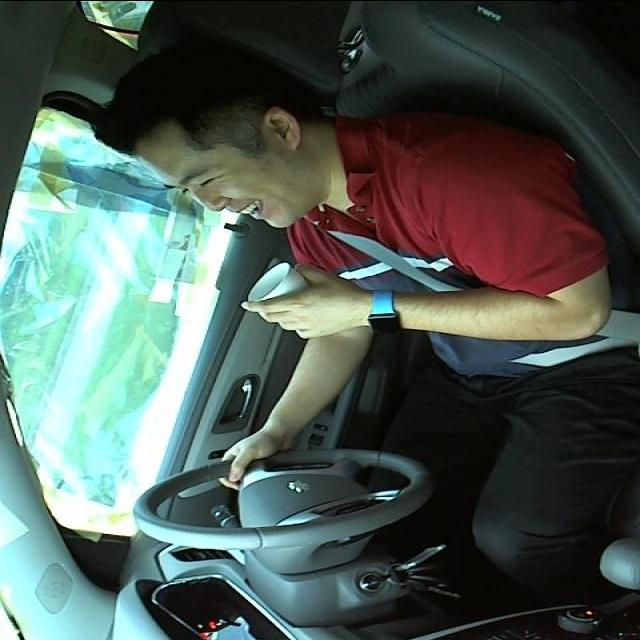drinking: (243, 261, 332, 333)
